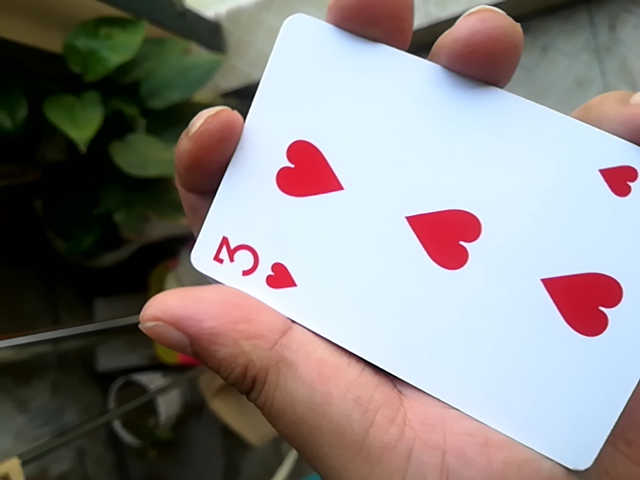hx 3: (180, 13, 640, 474)
